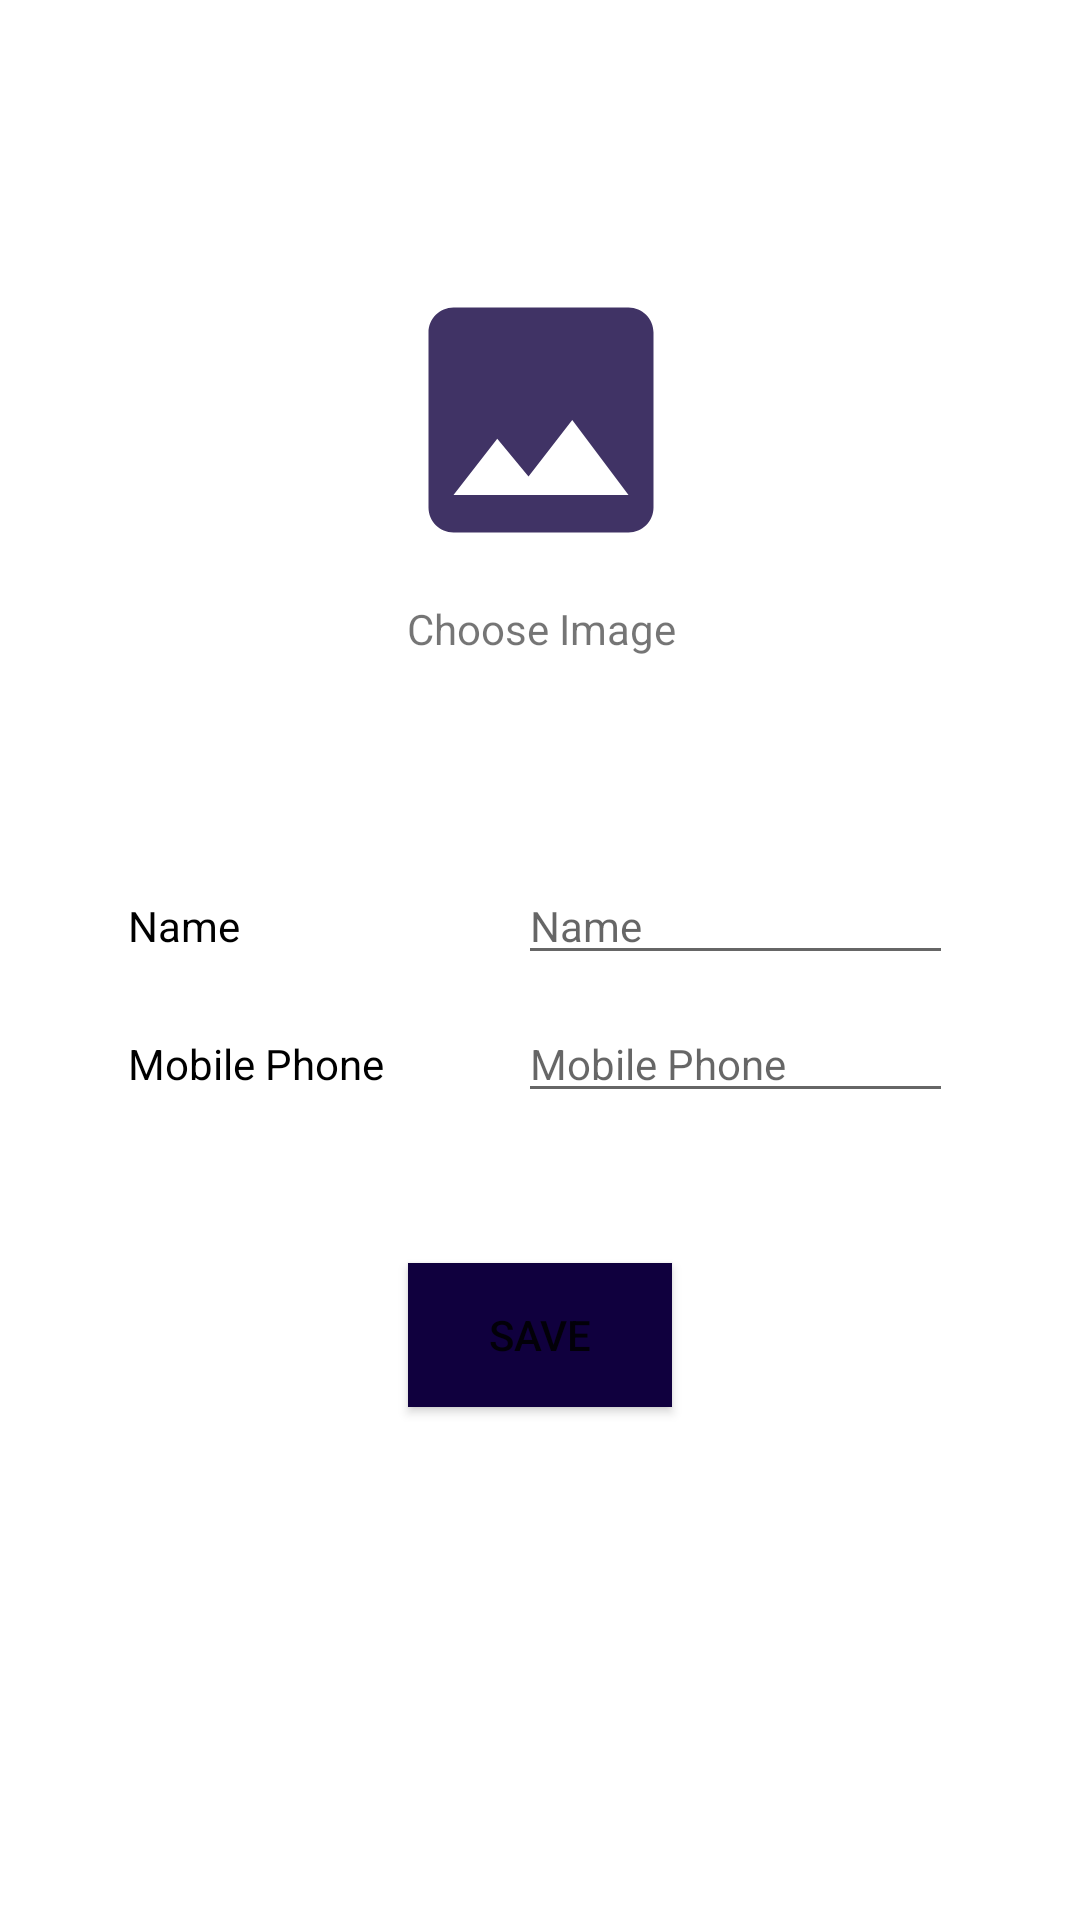

Screen size 1080px×1920px. Icon name, then its center in pixels as point (x, y):
photo: point (541, 420)
